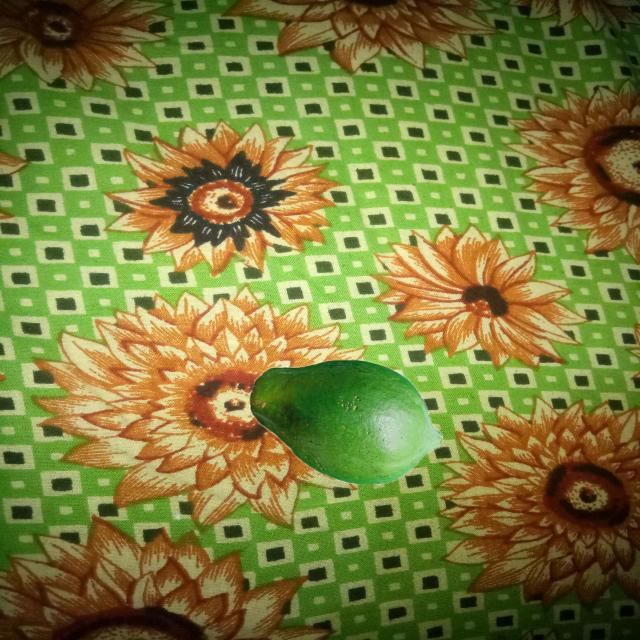Pepaya unrippen: (243, 361, 440, 492)
